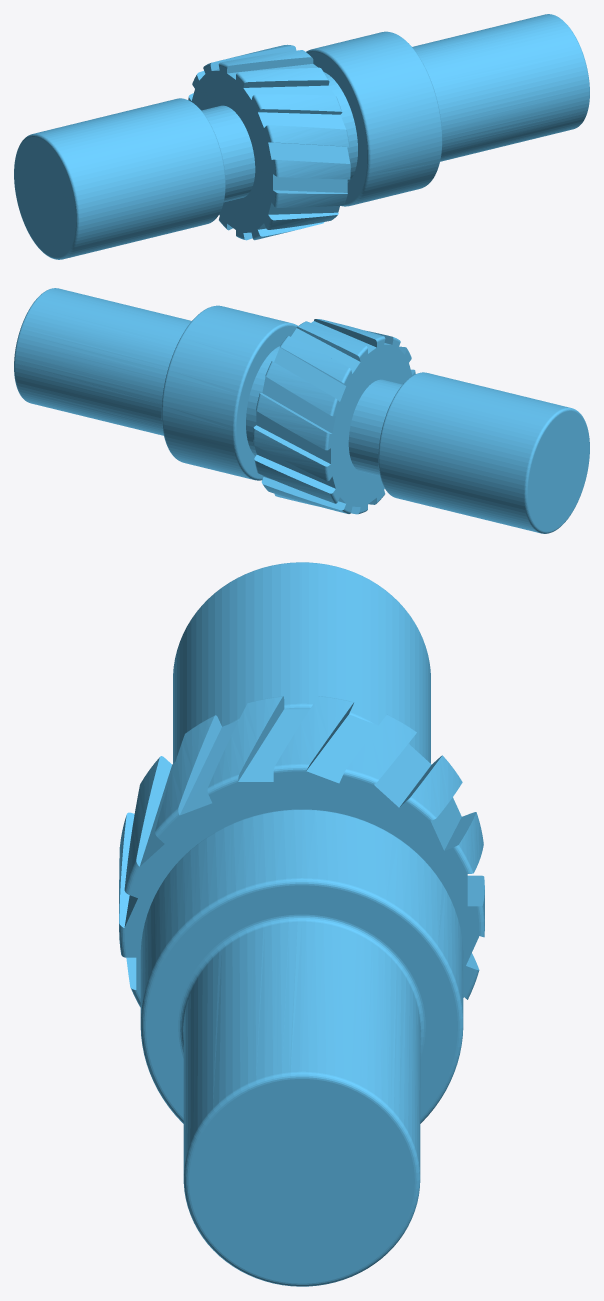
The model's file is 4x-lesson-4.obj.
The picture shows the model from 3 angles, top to bottom: view 1: azimuth 30°, elevation 25°; view 2: azimuth 150°, elevation 25°; view 3: azimuth 270°, elevation 25°; orthographic projection. The views are drawn at different scales.
Parts seen in each view (by area): view 1: solid; view 2: solid; view 3: solid.
Boxes of the visible parts, left/top/right/bottom form: solid: left=14, top=14, right=589, bottom=259; solid: left=14, top=288, right=589, bottom=533; solid: left=119, top=562, right=484, bottom=1286.
Size of the model in its own units: 6.93 by 2.12 by 2.12.
